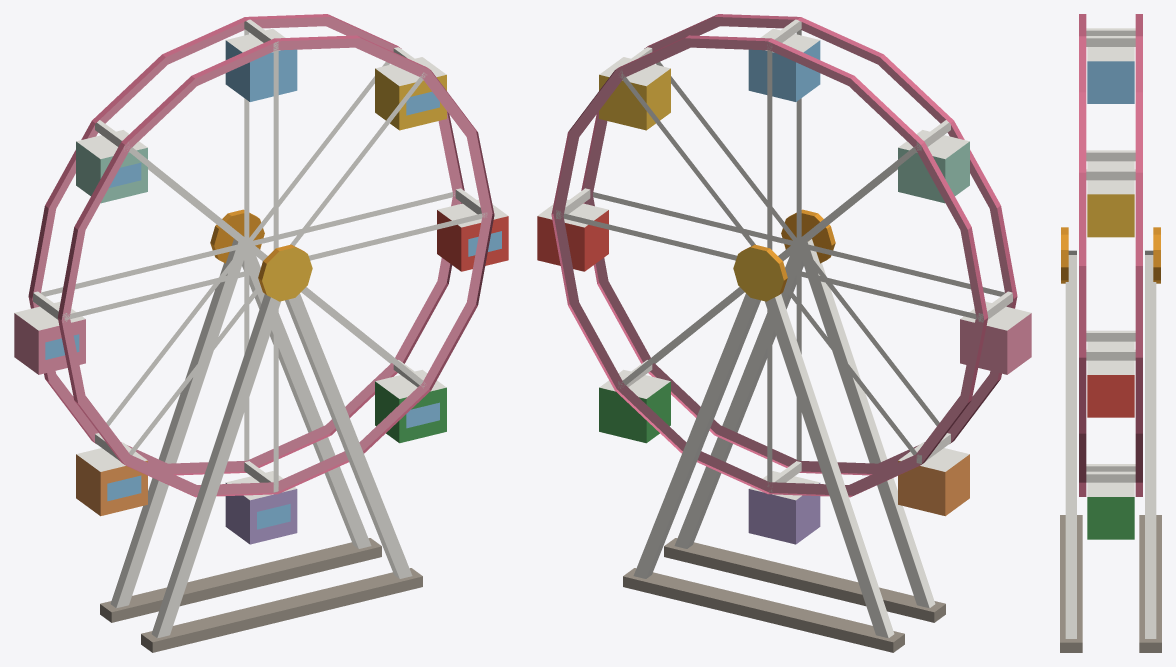
File: P_FerrisWheel.fbx
3 views of the same model, side by side, from view 1: azimuth 30°, elevation 25°; view 2: azimuth 150°, elevation 25°; view 3: azimuth 270°, elevation 25° (orthographic). The views are drawn at different scales.
Parts seen in each view (by area): view 1: P_FerrisWheel; view 2: P_FerrisWheel; view 3: P_FerrisWheel.
Part boxes in pixels (x1=…): P_FerrisWheel: x1=14, y1=14, x2=508, y2=652; P_FerrisWheel: x1=537, y1=14, x2=1031, y2=652; P_FerrisWheel: x1=1060, y1=14, x2=1161, y2=652.
Bounding box in the file's own units: 5.56 × 6.46 × 1.08.
